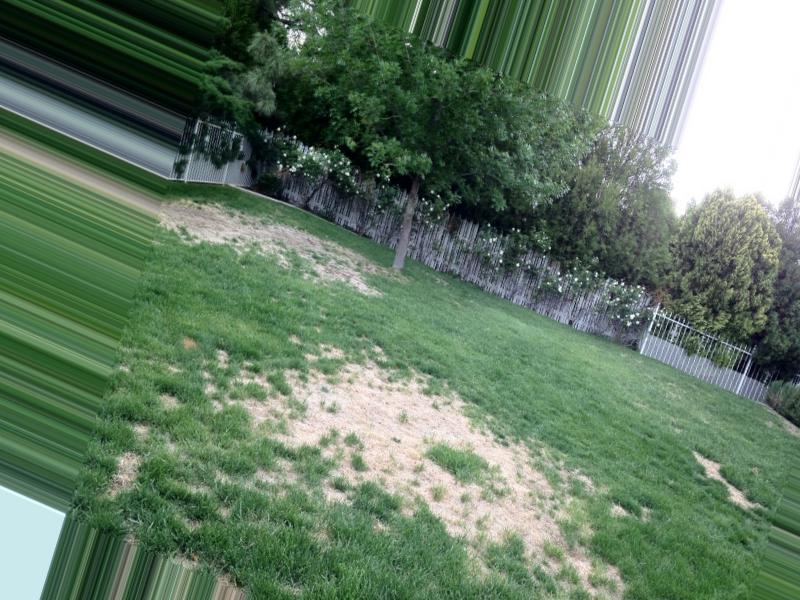patch: (283, 360, 504, 510), (169, 193, 384, 282)
